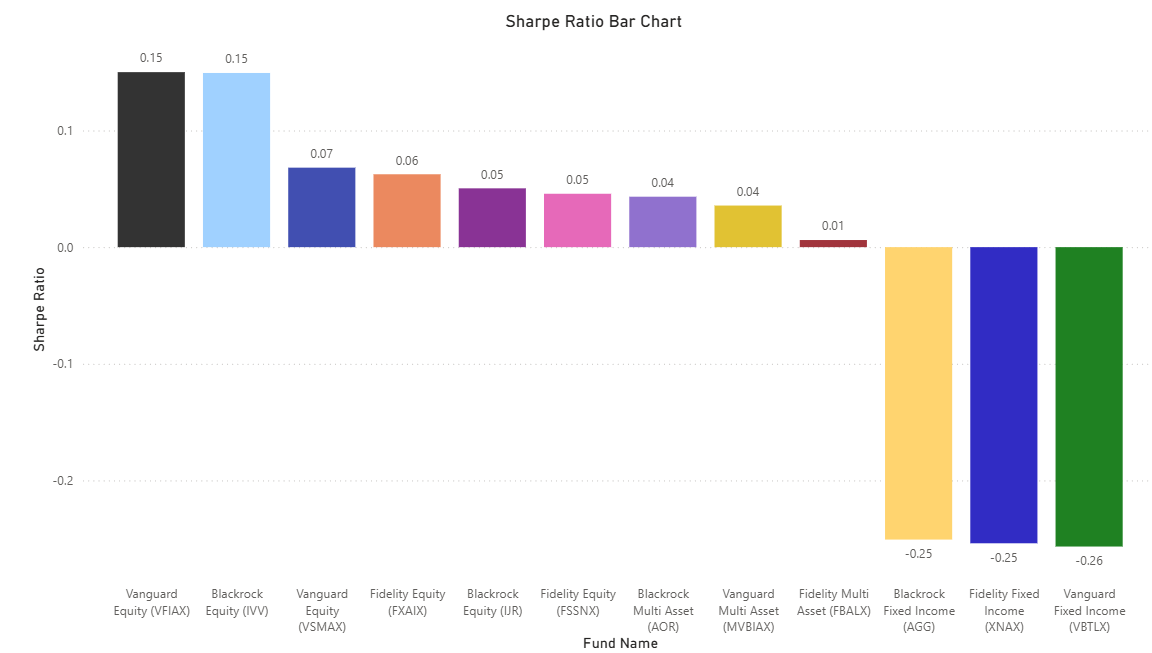

The dashboard page shown, as its layout file describes it:
{"tool":"powerbi","page":{"name":"Sharpe Ratio Bar Chart","canvas":[1280,720],"ordinal":0},"visuals":[{"type":"clusteredColumnChart","title":"Sharpe Ratio Bar Chart","fields":{"Category":["Ratios.Fund"],"Y":["Avg(Ratios.Sharpe Ratio)"]},"box":[86.6,45.7,1106.9,627.4],"z":0}]}

Visuals, with their boxes in screenshot pixels (x1, y1, x2, y2), scaled from the page's 1280x720 canvas onto the 1152x653 screenshot:
"Sharpe Ratio Bar Chart" clusteredColumnChart: region(78, 41, 1074, 610)
